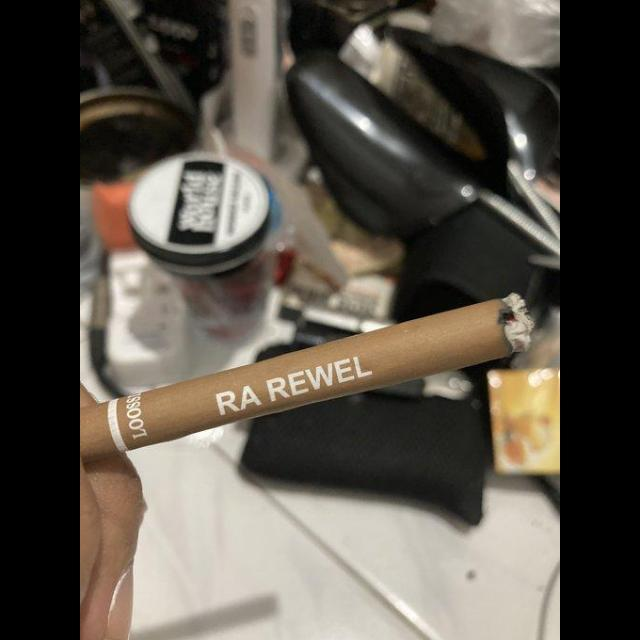rokok: (80, 286, 536, 469)
